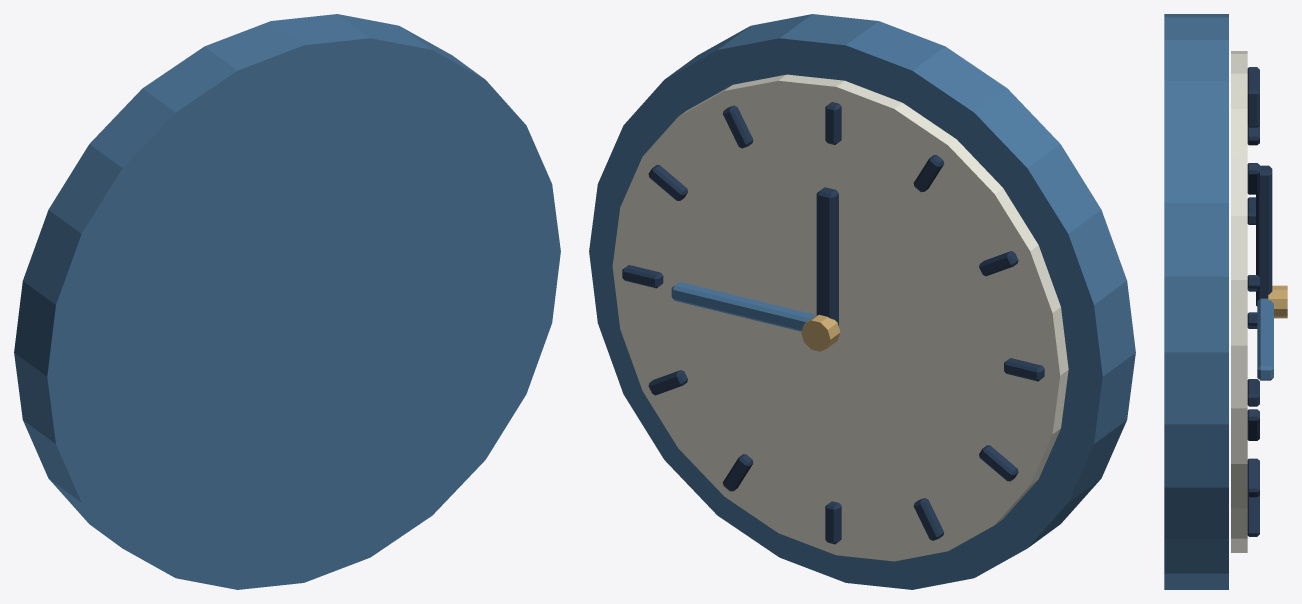
The model's file is minimal_wall_clock.glb.
3 renders of one model, left to right at view 1: azimuth 30°, elevation 25°; view 2: azimuth 150°, elevation 25°; view 3: azimuth 270°, elevation 25°, orthographic. The views are drawn at different scales.
Parts seen in each view (by area): view 1: clock_shell; view 2: clock_face, clock_shell, hour_hand, clock_tick (×4), minute_hand, clock_pin; view 3: clock_shell, clock_face, clock_tick (×10), hour_hand, minute_hand, clock_pin.
Boxes of the visible parts, x1,y1,x2,y2 form: clock_shell: (14, 14, 560, 589); clock_face: (612, 74, 1068, 561); clock_shell: (589, 14, 1135, 589); hour_hand: (816, 187, 838, 326); clock_tick (×4): (648, 105, 1018, 540); minute_hand: (671, 282, 816, 331); clock_pin: (801, 314, 840, 351); clock_shell: (1164, 14, 1228, 589); clock_face: (1231, 51, 1247, 552); clock_tick (×10): (1247, 67, 1259, 536); hour_hand: (1256, 165, 1272, 306); minute_hand: (1257, 298, 1273, 380); clock_pin: (1268, 285, 1287, 318).
Bounding box in the file's own units: 0.42 × 0.42 × 0.0895.
